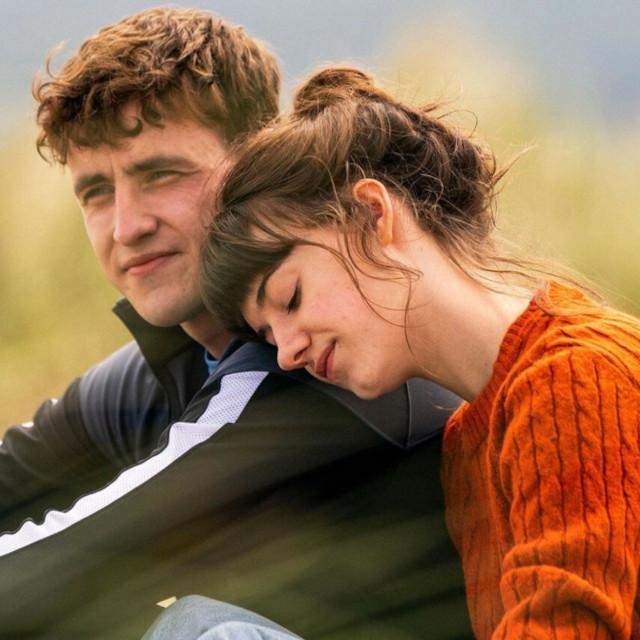kobieta: (232, 72, 638, 640)
mezczyzna: (5, 7, 288, 640)
